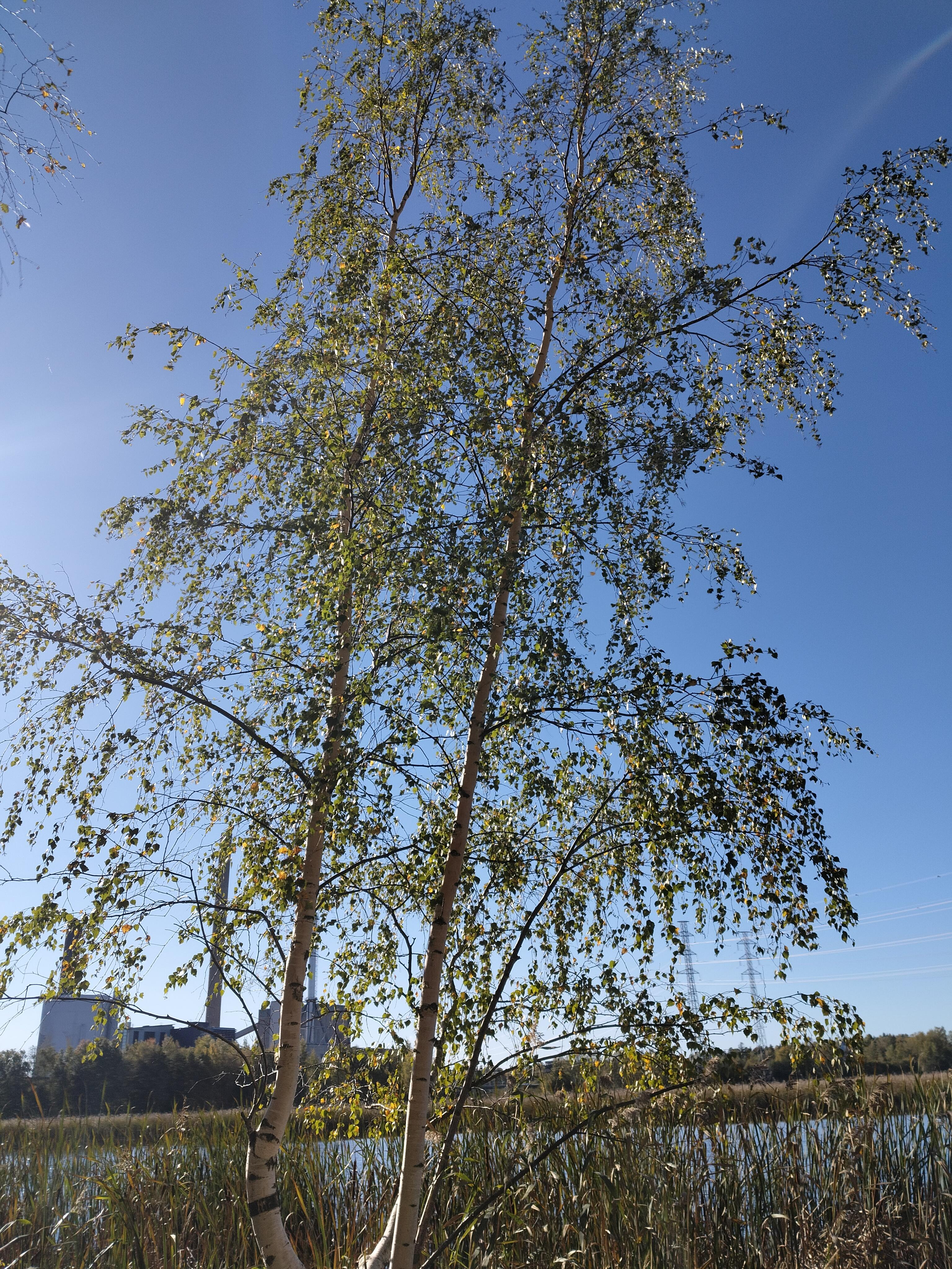Birch: (0, 1, 950, 1267), (360, 0, 918, 1255), (13, 0, 481, 1255)
